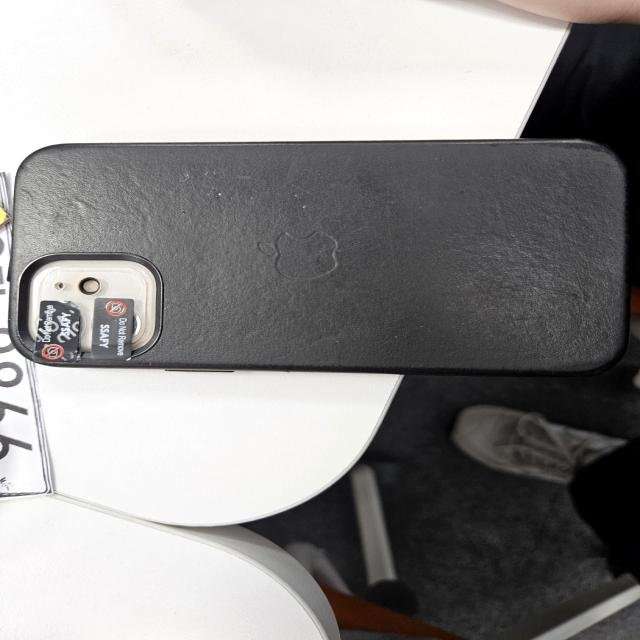phone: (9, 140, 628, 374)
removed_sticker: (37, 300, 80, 361)
sticker: (92, 296, 131, 358)
